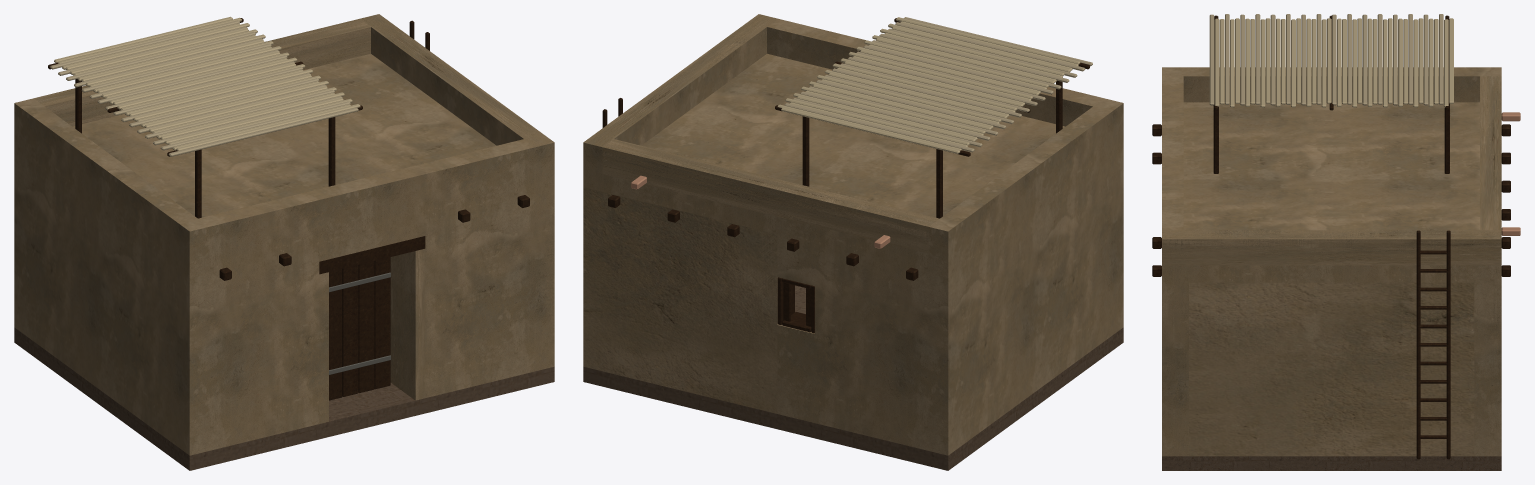
File: d_poor_home_6x5.glb
3 renders of one model, left to right at view 1: azimuth 30°, elevation 25°; view 2: azimuth 150°, elevation 25°; view 3: azimuth 270°, elevation 25°, orthographic. The views are drawn at different scales.
Parts seen in each view (by area): view 1: front adobe pier, reed bundle.001, reed bundle, model floor, entry reveal-colonly.001, end parapet-colonly.001, structural timber lintel, side parapet-colonly.001, front adobe pier-colonly.001, Door entry plank.004, Door entry plank.003, Door entry plank.002 (+1 smaller); view 2: front adobe pier, rear adobe pier-colonly.001, reed bundle.001, end parapet-colonly.001, reed bundle, model floor, structural timber lintel, side parapet-colonly.001; view 3: front adobe pier, side adobe wall-colonly.001, reed bundle.001, side parapet-colonly.001, reed bundle, structural timber lintel, model floor, end parapet-colonly.001, rear adobe pier-colonly.001, front adobe pier-colonly.001.
Part boxes in pixels (x1,y1,x2,y2): front adobe pier: [14, 14, 554, 455]; reed bundle.001: [54, 16, 360, 150]; reed bundle: [50, 20, 358, 156]; model floor: [14, 327, 554, 470]; entry reveal-colonly.001: [390, 249, 425, 400]; end parapet-colonly.001: [34, 18, 370, 126]; structural timber lintel: [48, 18, 529, 280]; side parapet-colonly.001: [360, 14, 547, 146]; front adobe pier-colonly.001: [425, 188, 554, 397]; Door entry plank.004: [374, 257, 390, 389]; Door entry plank.003: [358, 261, 374, 392]; Door entry plank.002: [342, 265, 358, 396]; front adobe pier: [583, 14, 1123, 455]; rear adobe pier-colonly.001: [583, 187, 777, 413]; reed bundle.001: [777, 17, 1080, 153]; end parapet-colonly.001: [602, 139, 939, 253]; reed bundle: [784, 17, 1092, 152]; model floor: [583, 285, 1123, 470]; structural timber lintel: [602, 18, 1089, 333]; side parapet-colonly.001: [583, 14, 777, 147]; front adobe pier: [1162, 67, 1501, 456]; side adobe wall-colonly.001: [1189, 282, 1474, 456]; reed bundle.001: [1214, 18, 1453, 107]; side parapet-colonly.001: [1162, 230, 1501, 265]; reed bundle: [1209, 14, 1443, 105]; structural timber lintel: [1152, 15, 1510, 459]; model floor: [1162, 456, 1501, 470]; end parapet-colonly.001: [1480, 76, 1501, 230]; rear adobe pier-colonly.001: [1474, 282, 1501, 456]; front adobe pier-colonly.001: [1162, 282, 1188, 456].
Size of what is drawn, in the model's own units: 6.12 by 4.67 by 5.42.
8 materials, 4 textured.
